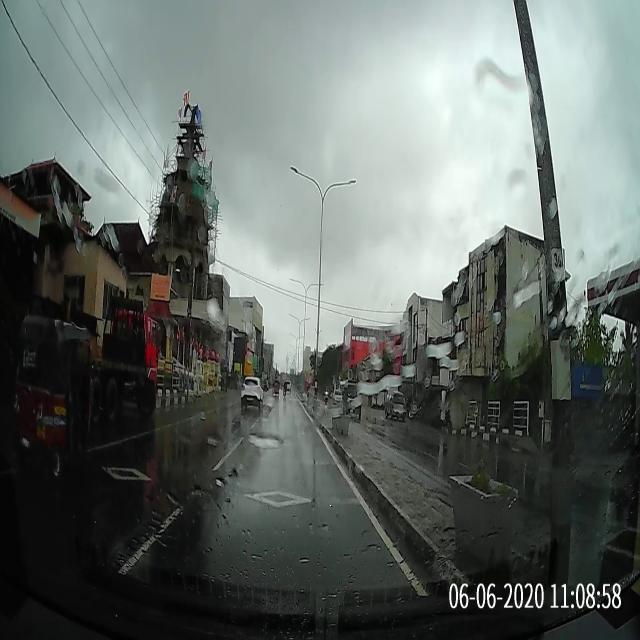diamond: (187, 479, 378, 521)
